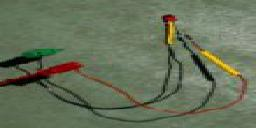LED: (17, 47, 50, 65)
